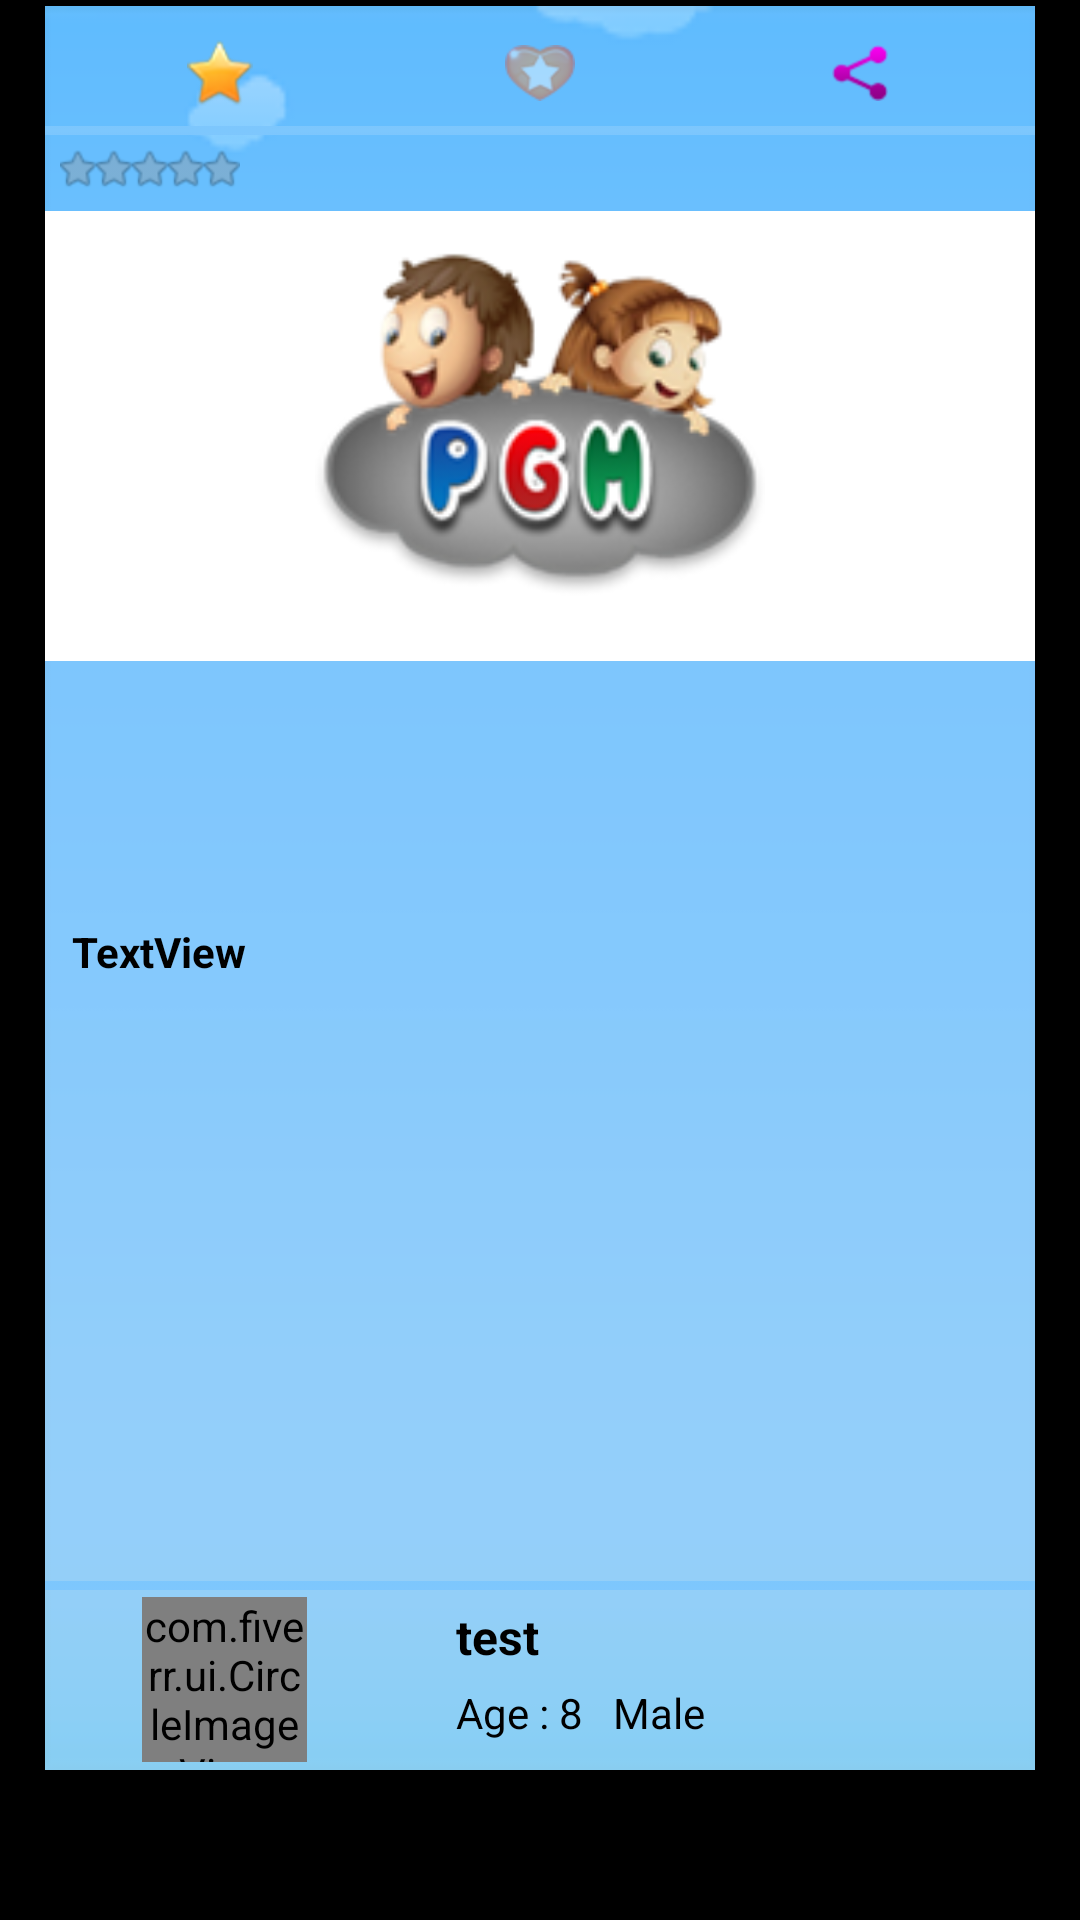

Icon click points for this 1080px×1920px phone screenshot, format [x,y]:
disable quote fav: [540,73]
rate quote: [220,73]
share quote: [860,73]
